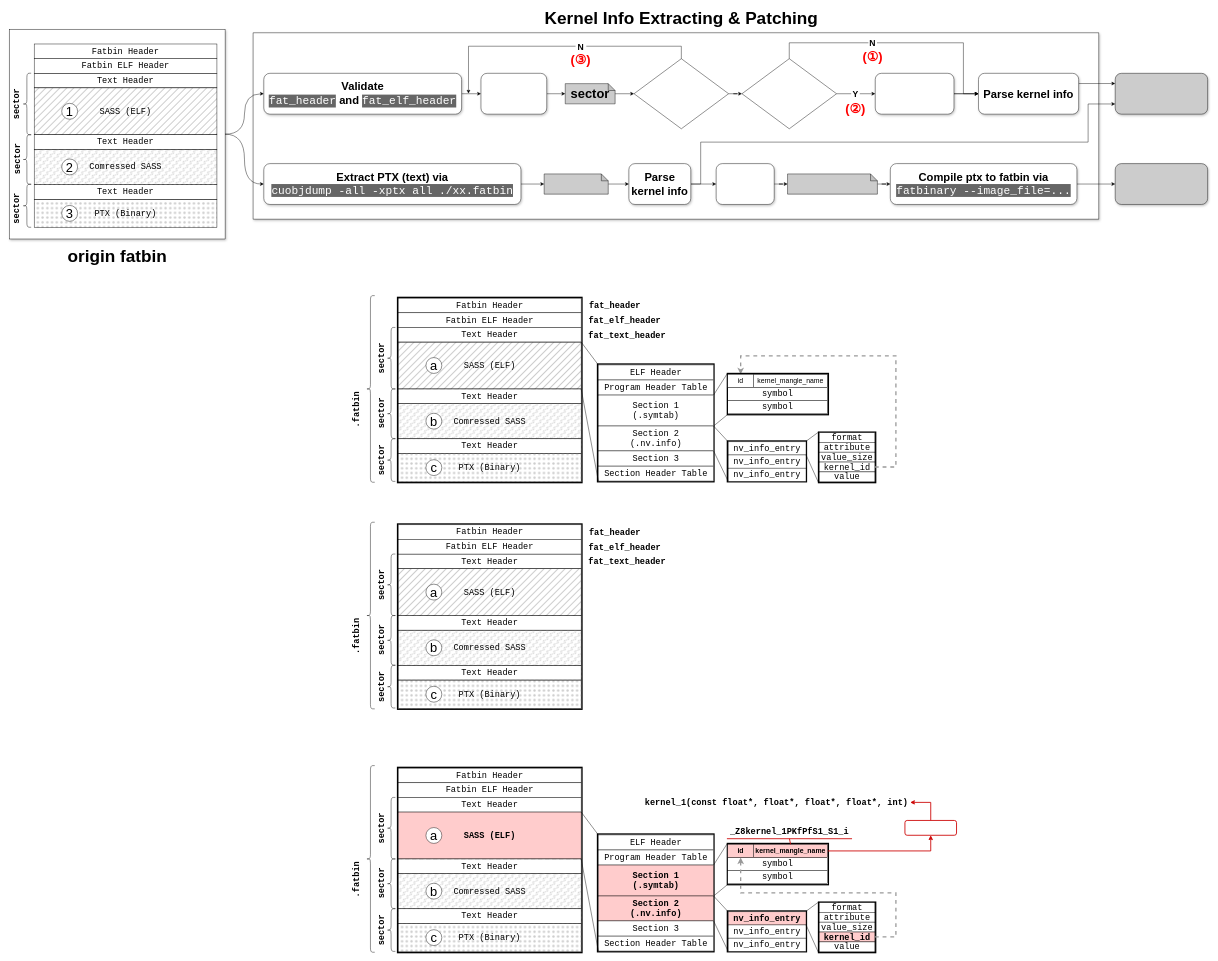
Image size: 1218x961. Some labels were removed from this diagram. Each missing label, with the centre of its shape:
Compressed?: the point at 789,93
De-mangle: the point at 930,827
Decompress: the point at 915,94
Extract next sector: the point at 514,94
kernel_info: the point at 1161,94
Patch kernels: the point at 745,184
patched_fatbin: the point at 1161,184
patched_ptx: the point at 832,184
ptx_text: the point at 576,184
SASS Contained?: the point at 681,93
